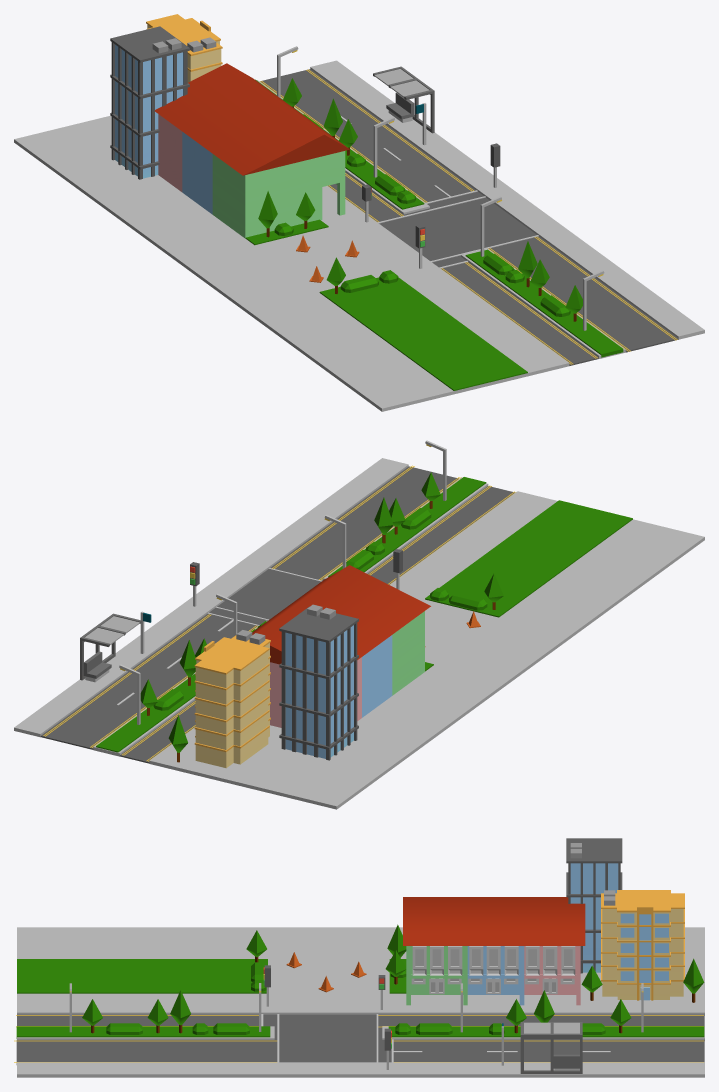
File: city.fbx
3 renders of one model, top to bottom at view 1: azimuth 30°, elevation 25°; view 2: azimuth 150°, elevation 25°; view 3: azimuth 270°, elevation 25°, orthographic. The views are drawn at different scales.
Visible parts, largest first — view 1: pCube531, pCube671, pCube579, pCube589, pCube511, pCube546, pCube581, pCube673, pCube582, pCube569, pCube516, pCube674 (+14 smaller); view 2: pCube531, pCube511, pCube671, pCube589, pCube536, pCube579, pCube581, pCube582, pCube673, pCube516, pCube674, pCube543 (+15 smaller); view 3: pCube531, pCube671, pCube579, pCube589, pCube673, pCube581, pCube582, pCube536, pCube569, pCube674, pCube543, pCube551 (+36 smaller).
Part boxes in pixels (<box>): pCube531: <box>136,208,419,321</box>; pCube671: <box>259,279,542,411</box>; pCube579: <box>155,63,349,175</box>; pCube589: <box>319,277,527,390</box>; pCube511: <box>14,115,207,231</box>; pCube546: <box>212,151,345,238</box>; pCube581: <box>383,159,554,260</box>; pCube673: <box>505,248,678,352</box>; pCube582: <box>260,69,432,170</box>; pCube569: <box>328,178,480,274</box>; pCube516: <box>115,44,183,178</box>; pCube674: <box>555,240,704,339</box>; pCube531: <box>388,587,582,719</box>; pCube511: <box>175,699,459,809</box>; pCube671: <box>421,497,704,629</box>; pCube589: <box>425,500,632,617</box>; pCube536: <box>195,643,269,768</box>; pCube579: <box>252,565,430,664</box>; pCube581: <box>164,556,334,653</box>; pCube582: <box>40,646,195,749</box>; pCube673: <box>286,466,458,568</box>; pCube516: <box>285,625,353,758</box>; pCube674: <box>260,458,408,555</box>; pCube543: <box>137,548,285,645</box>; pCube531: <box>246,927,475,1000</box>; pCube671: <box>17,927,246,1000</box>; pCube579: <box>403,897,585,945</box>; pCube589: <box>17,959,267,993</box>; pCube673: <box>16,1040,248,1064</box>; pCube581: <box>247,1040,475,1062</box>; pCube582: <box>475,1040,704,1061</box>; pCube536: <box>602,909,683,999</box>; pCube569: <box>248,1014,475,1040</box>; pCube674: <box>17,1062,246,1077</box>; pCube543: <box>246,1062,476,1077</box>; pCube551: <box>246,1000,476,1014</box>.
Bounding box in the file's own units: 12.19 × 4.66 × 24.2.
